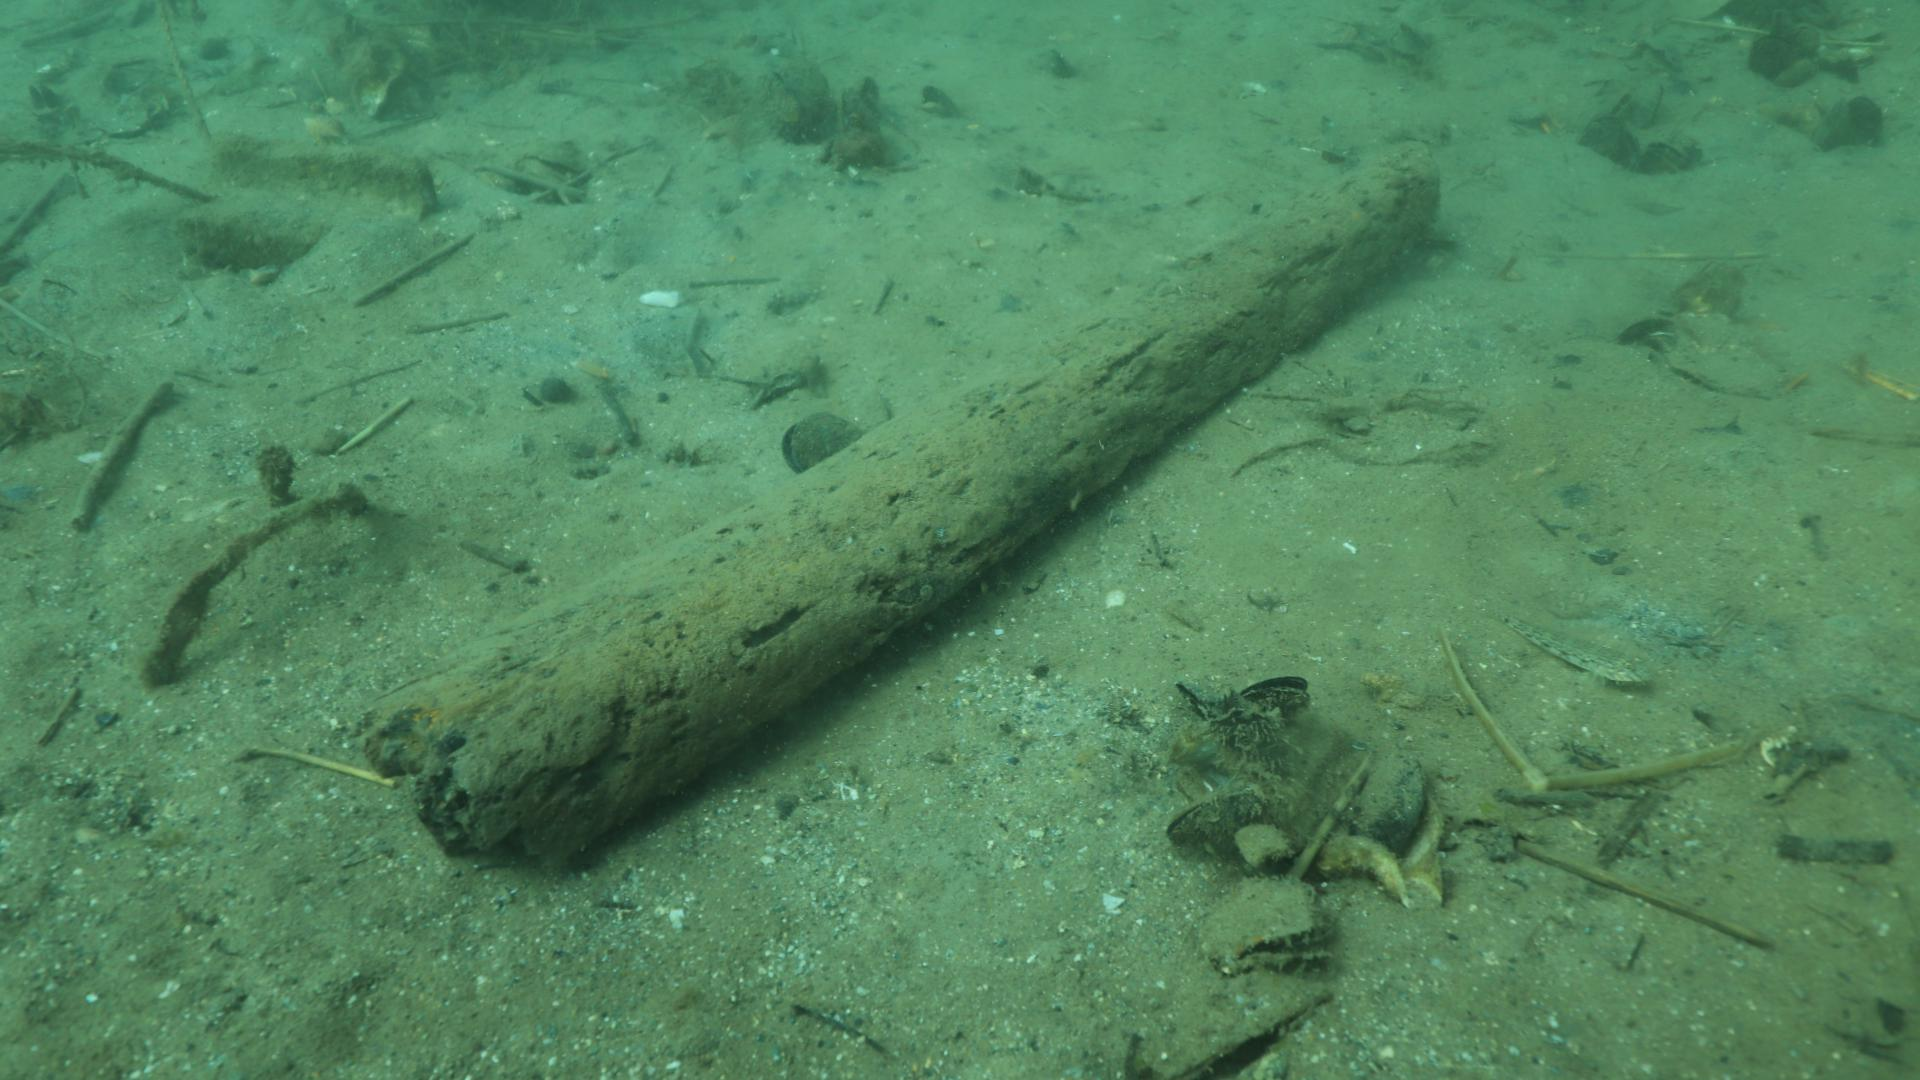wood: (357, 138, 1439, 858)
